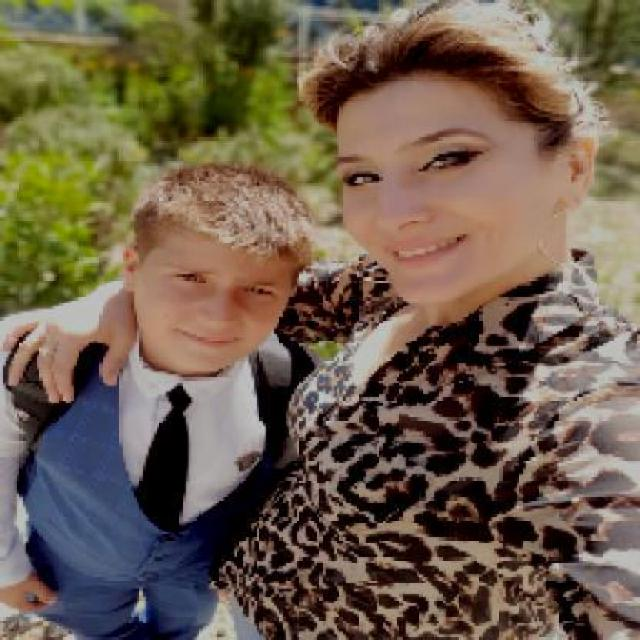child: (3, 154, 326, 637)
